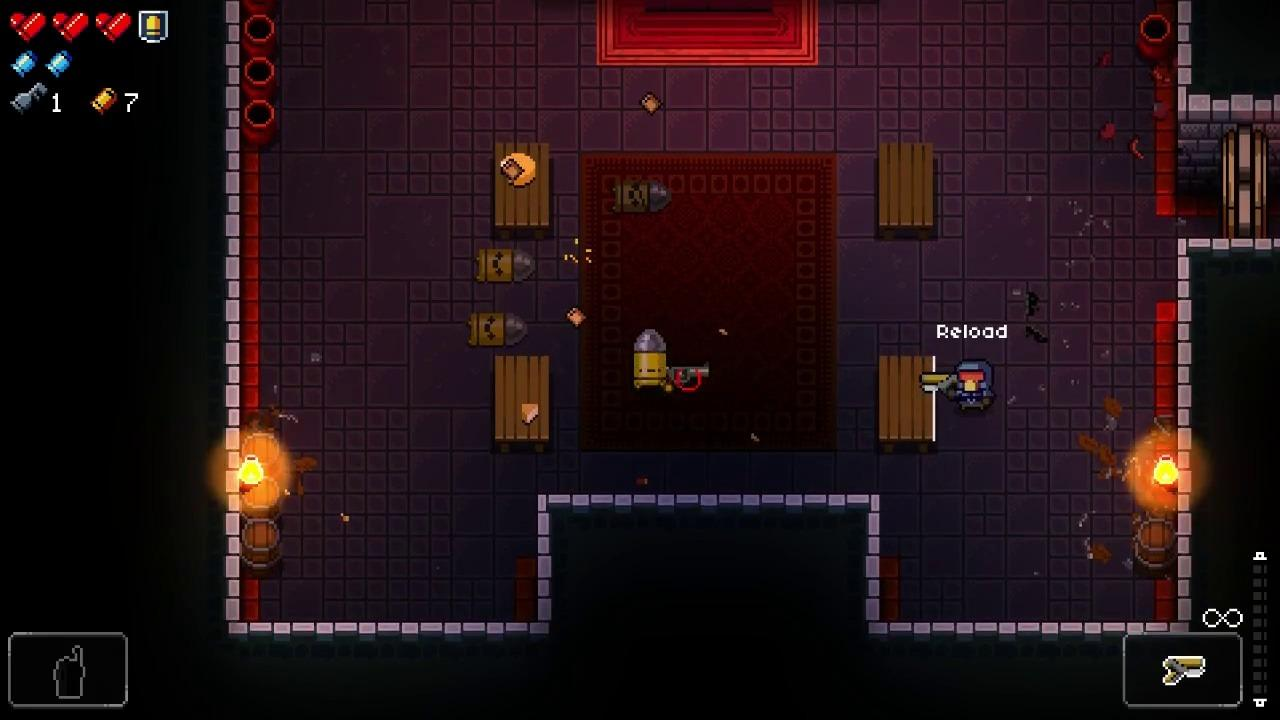bullet_kin: (634, 328, 666, 392)
dead_bullet_kin: (477, 248, 537, 283), (470, 313, 529, 347)
dead_veteran_bullet_kin: (613, 181, 673, 214)
locked_door: (1223, 125, 1266, 239)
player: (955, 360, 994, 413)
table: (879, 357, 935, 456), (495, 142, 549, 240), (878, 144, 933, 239), (496, 357, 548, 450)
